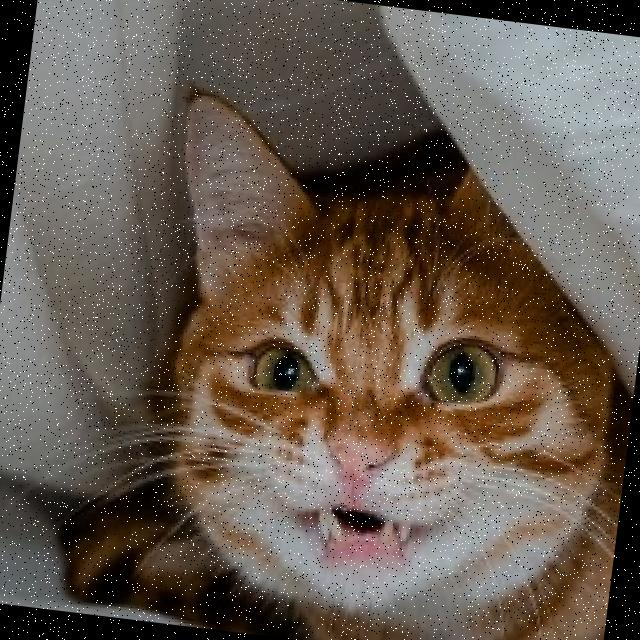Angry: (160, 282, 556, 620)
